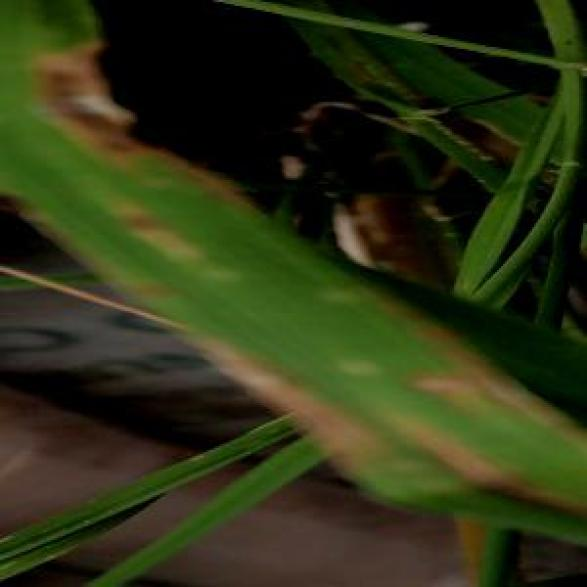Leaf_smut: (180, 311, 391, 491), (22, 26, 202, 162), (397, 321, 585, 434), (106, 192, 225, 270)
